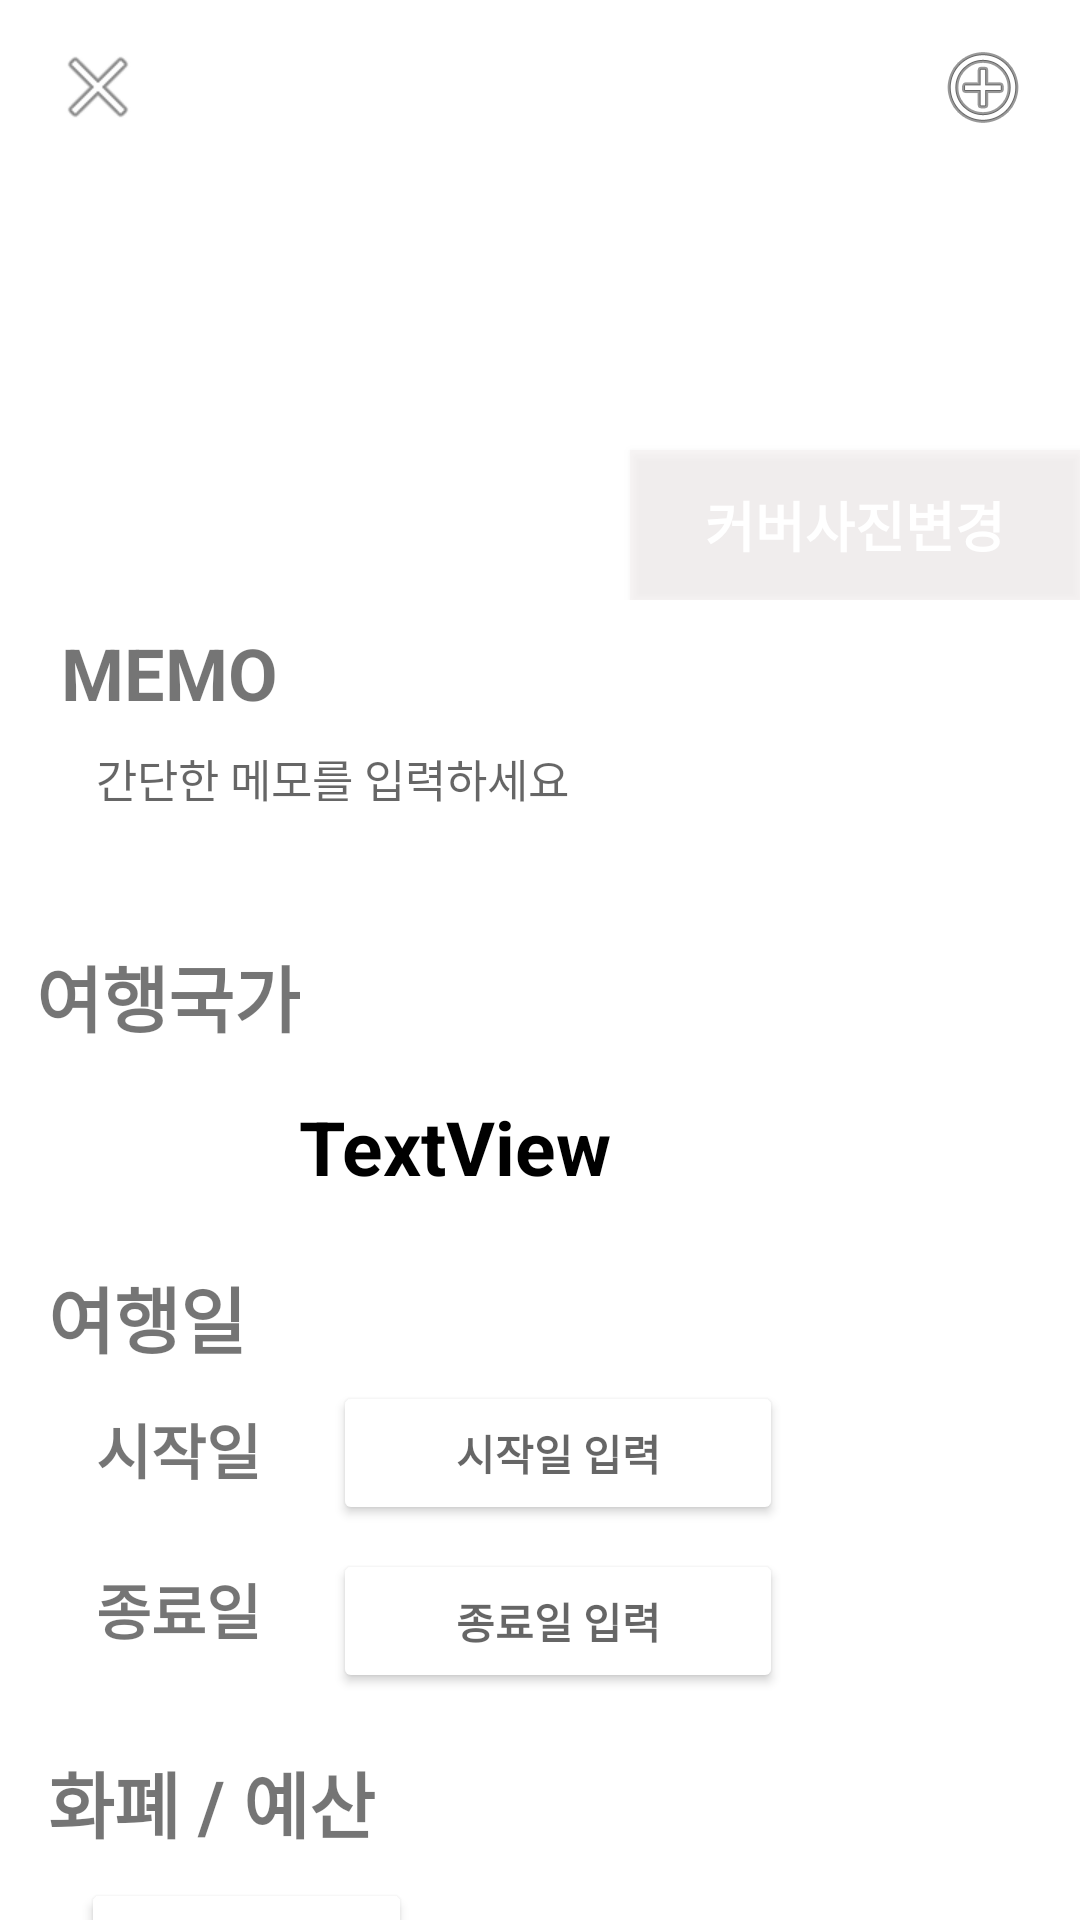

Where to tap for icons on this 1080 × 1920 app screen, as (x=x, y=y):
add: (x=983, y=87)
close clear cancel: (x=98, y=87)
